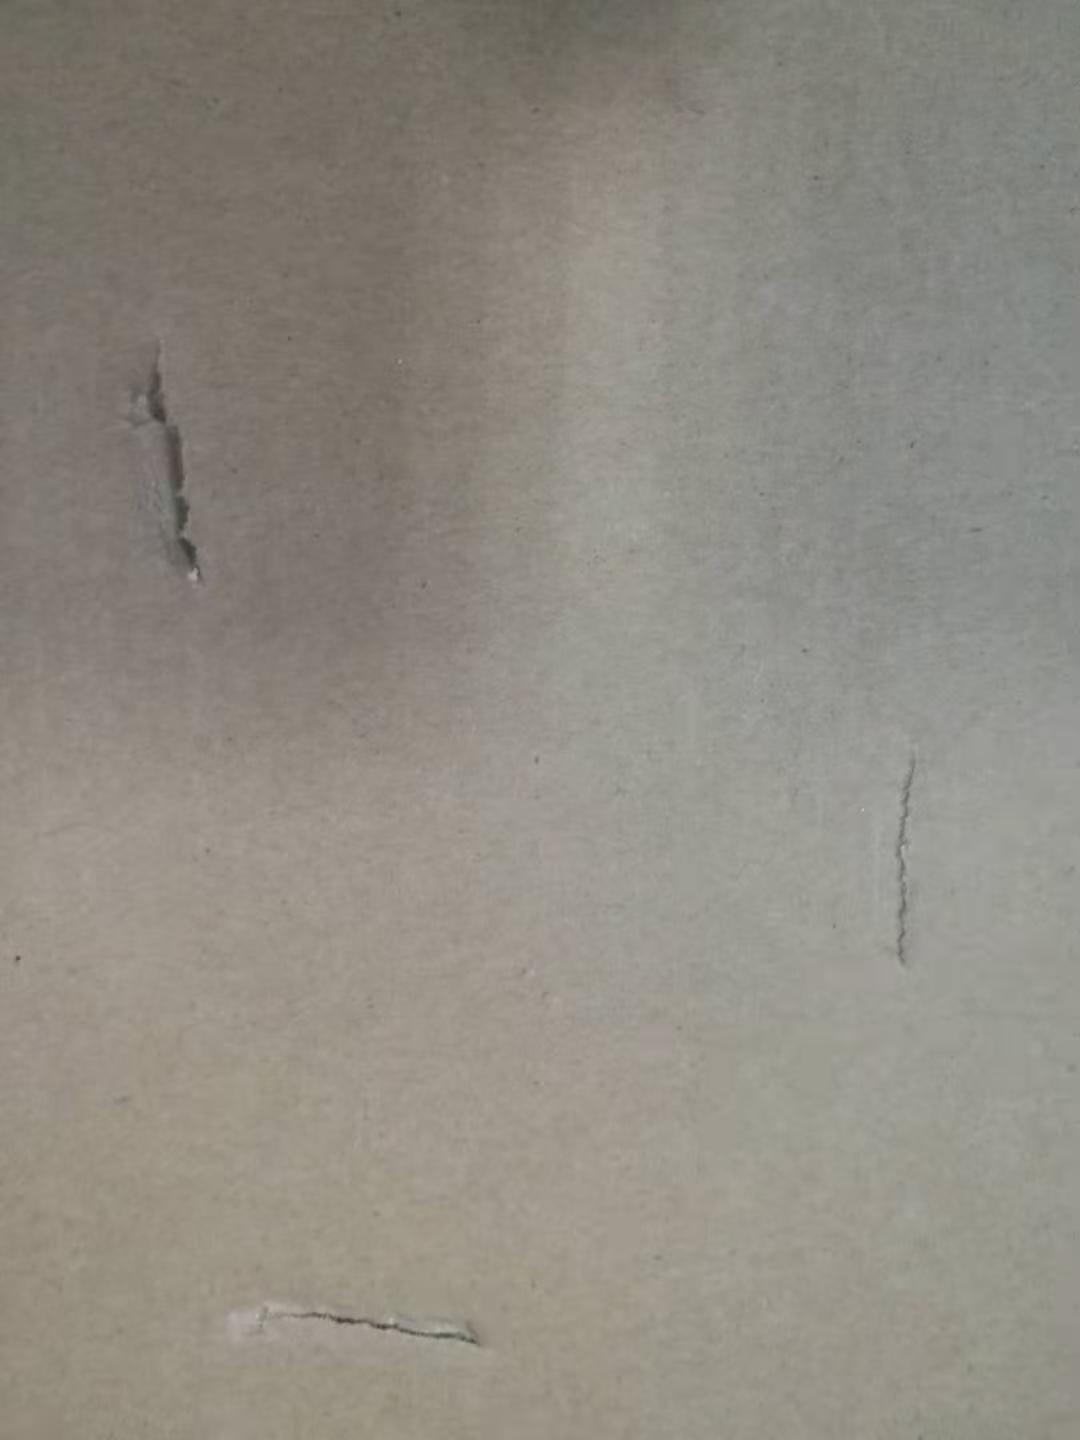defect: (81, 293, 243, 627), (200, 1257, 512, 1387), (843, 730, 963, 988)
